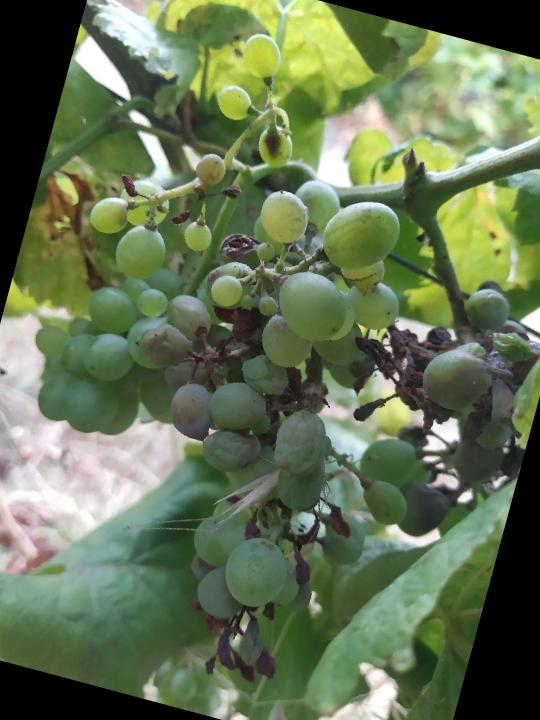grape: (0, 125, 431, 704)
